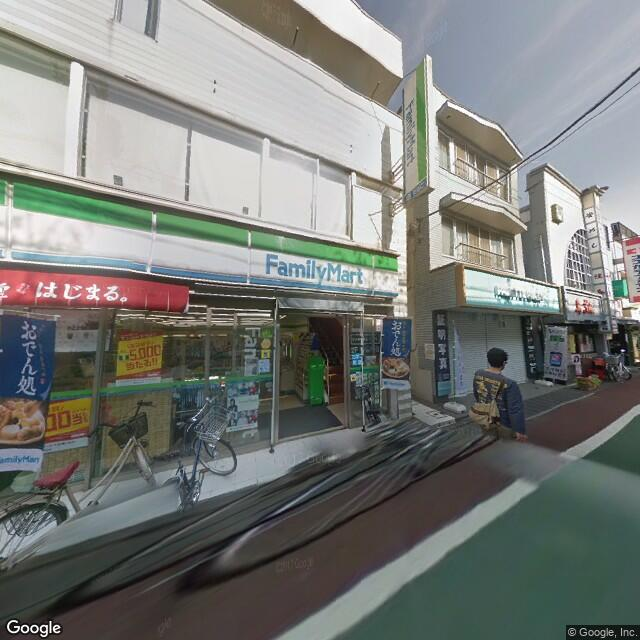family_mart: (2, 171, 399, 300), (260, 246, 364, 290), (399, 54, 430, 193)
